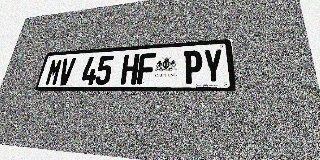4: (80, 56, 100, 85)
5: (95, 55, 114, 85)
F: (137, 53, 156, 84)
H: (120, 54, 140, 85)
M: (44, 58, 64, 85)
P: (183, 50, 203, 84)
V: (57, 58, 76, 85)
Y: (203, 49, 224, 84)
